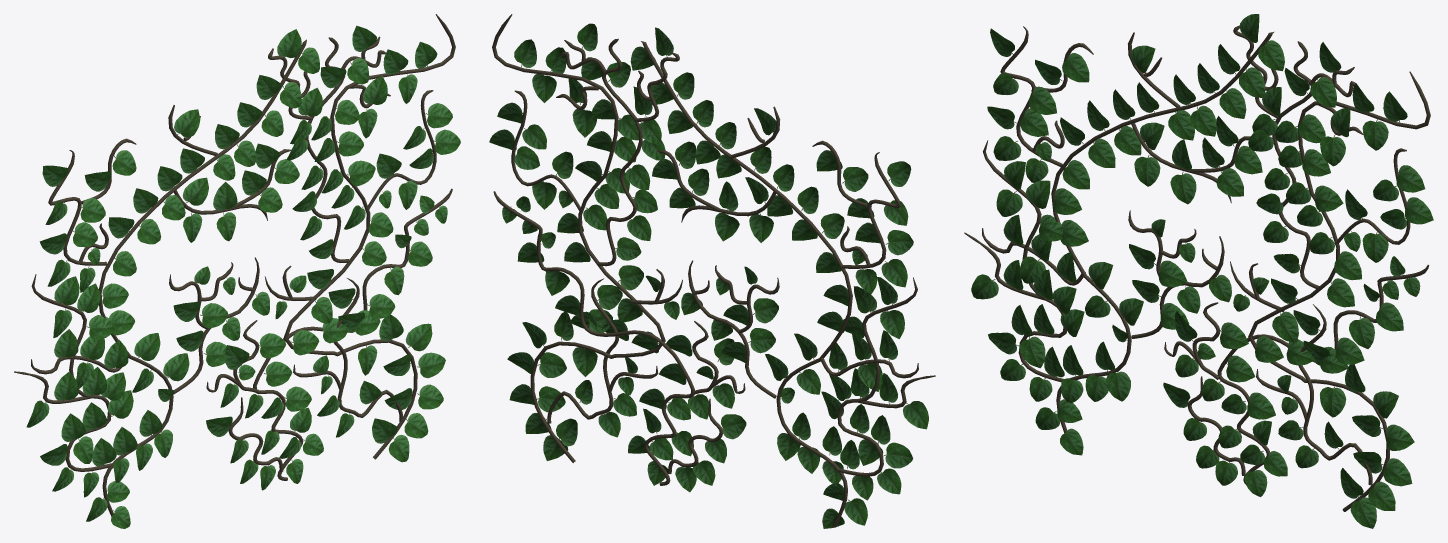
File: vines.glb
The picture shows the model from 3 angles, left to right: view 1: azimuth 30°, elevation 25°; view 2: azimuth 150°, elevation 25°; view 3: azimuth 330°, elevation 25°; orthographic projection. The views are drawn at different scales.
Parts seen in each view (by area): view 1: Line006, Line003, Line027, Line019, Line013, Line031, Line020, Line002, Line009, Plane049, Plane047, Plane074 (+21 smaller); view 2: Line006, Line003, Line027, Line019, Line013, Line031, Line020, Line009, Line002, Line030, Plane009, Plane022 (+9 smaller); view 3: Line006, Line003, Line027, Line013, Line019, Line031, Line020, Line002, Plane017, Plane143, Plane103, Plane066 (+46 smaller).
Boxes of the visible parts, x1,y1,x2,y2 form: Line006: (283,14,455,459); Line003: (98,39,306,516); Line027: (253,188,452,480); Line019: (31,274,111,471); Line013: (305,37,349,262); Line031: (334,278,402,421); Line020: (48,150,106,265); Line002: (365,90,436,211); Line009: (173,257,259,394); Plane049: (163,353,189,381); Plane047: (134,333,160,360); Plane074: (174,109,200,137); Line006: (492,14,665,462); Line003: (641,41,852,527); Line027: (493,191,694,485); Line019: (836,277,917,476); Line013: (597,38,642,266); Line031: (547,278,618,423); Line020: (842,152,901,268); Line009: (688,260,776,398); Line002: (511,90,582,212); Line030: (668,398,722,473); Plane009: (883,442,913,468); Plane022: (903,401,928,429); Line006: (1248,71,1430,511); Line003: (1051,31,1274,433); Line027: (1217,264,1429,485); Line013: (1272,41,1319,288); Line019: (983,140,1066,382); Line031: (1298,304,1372,485); Line020: (1000,26,1062,166); Line002: (1334,148,1410,244); Plane017: (1019,336,1045,368); Plane143: (1320,386,1346,417); Plane103: (1272,311,1298,342); Plane066: (1258,40,1284,71).
Bounding box in the file's own units: 138 × 135 × 6.08.
2 materials, 1 textured.
